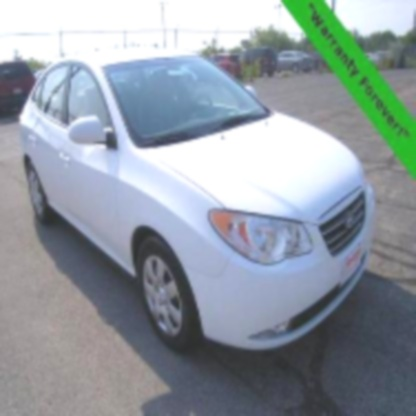Vehicle: (17, 49, 377, 353)
